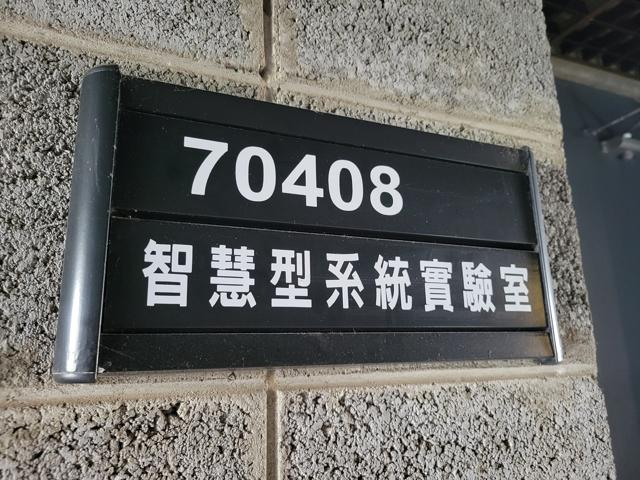doorplate: (39, 53, 572, 396)
